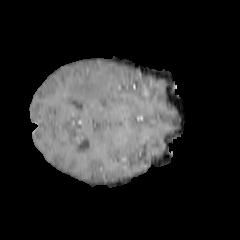glioma: (66, 66, 131, 109)
